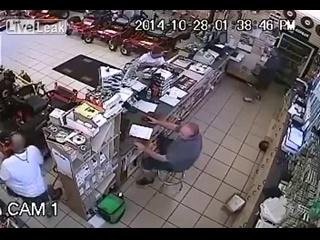Normal: (134, 114, 203, 184), (0, 132, 50, 204)
